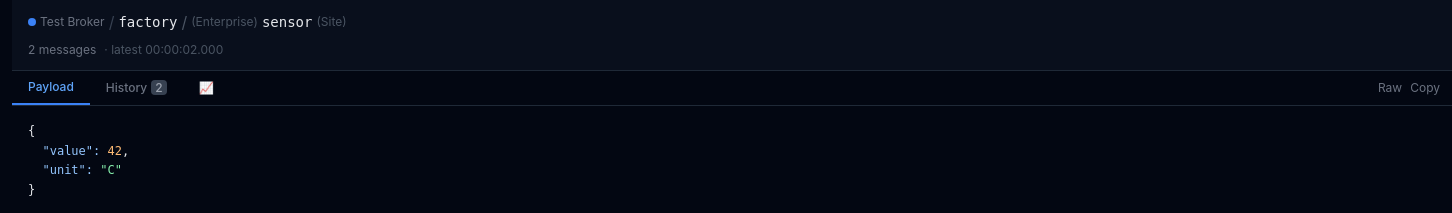
PayloadInspector — topic selected › toggles between Raw and Formatted view
Click the button "Raw": (1390, 88) [1378,80,1402,96]
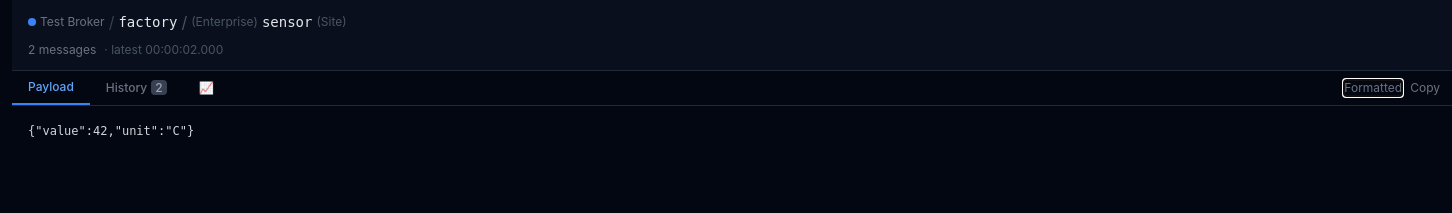
Now the button "Formatted" is shown, box [1344,80,1402,96]
